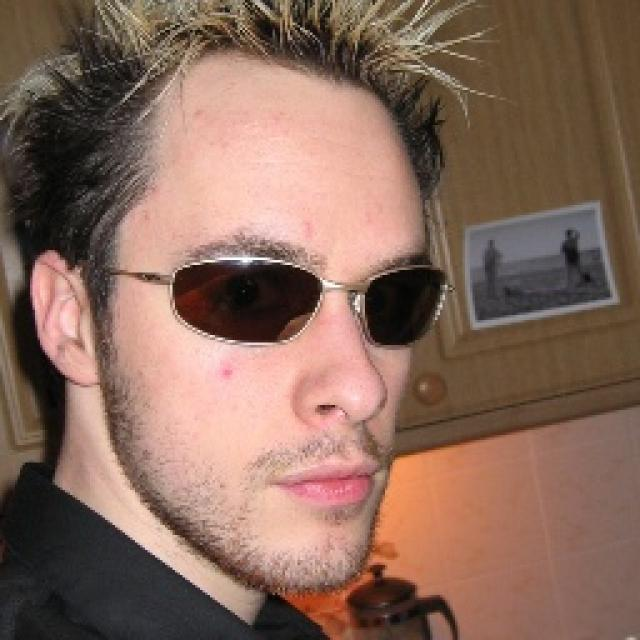earlobe: (60, 343, 100, 388)
eye: (215, 275, 283, 309), (370, 282, 418, 315)
nose: (298, 407, 380, 448)
wholeear: (29, 252, 99, 388)
